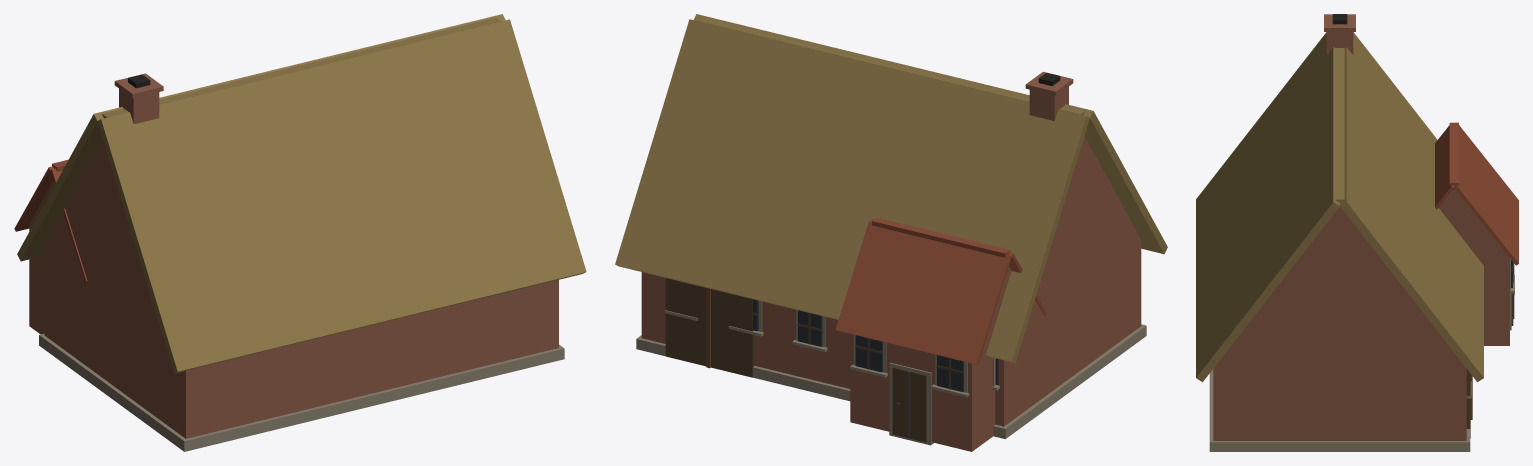
Rendered from farmhouse_dutch.glb.
3 views of the same model, side by side, from view 1: azimuth 30°, elevation 25°; view 2: azimuth 150°, elevation 25°; view 3: azimuth 270°, elevation 25° (orthographic). The views are drawn at different scales.
Parts seen in each view (by area): view 1: farmhouse_dutch; view 2: farmhouse_dutch; view 3: farmhouse_dutch.
Boxes of the visible parts, box(x1,y1,x2,y2) form: farmhouse_dutch: box(14, 14, 586, 451); farmhouse_dutch: box(615, 14, 1167, 451); farmhouse_dutch: box(1196, 14, 1518, 451).
Size of the model in its own units: 13.7 by 10.11 by 10.45.
